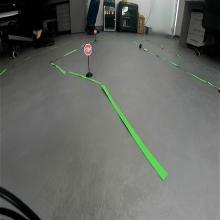stop: (84, 44, 93, 56)
